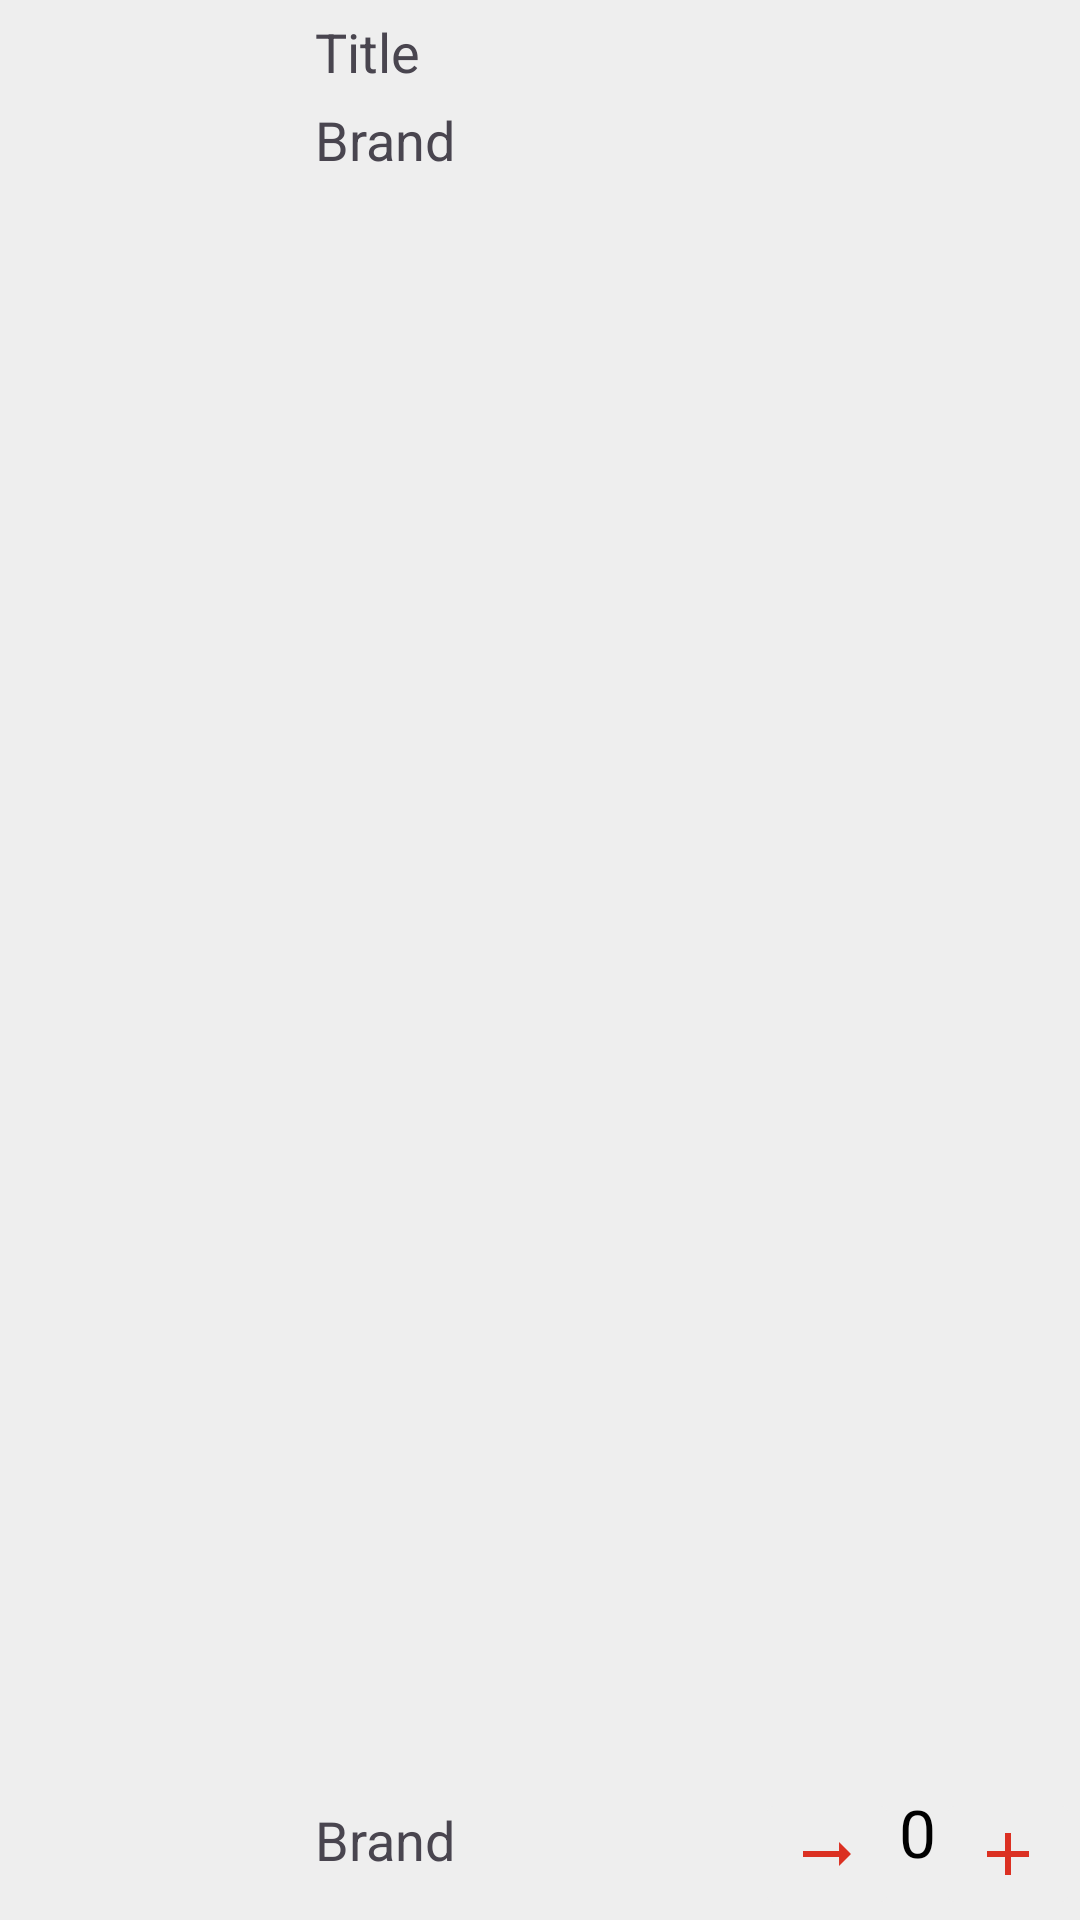

Where to tap for icons on this 1080*1920 app screen, as point (x, y):
add icc: point (1008, 1854)
